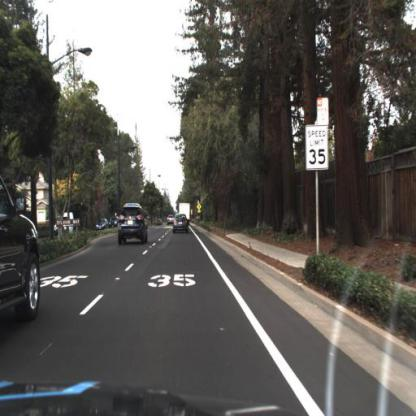car: (1, 171, 43, 335), (116, 202, 150, 247), (55, 212, 76, 236), (172, 213, 191, 235), (96, 219, 109, 232), (167, 213, 177, 229)
truck: (180, 201, 193, 222)
